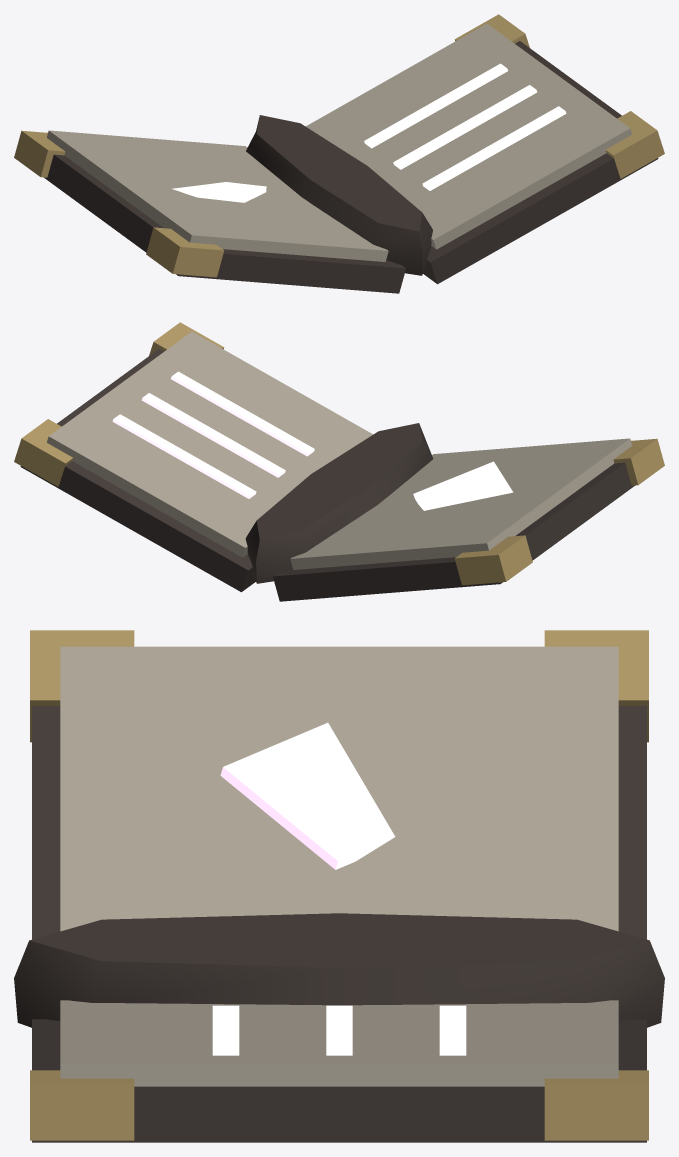
Rendered from mage_book.glb.
3 views of the same model, one above another, from view 1: azimuth 30°, elevation 25°; view 2: azimuth 150°, elevation 25°; view 3: azimuth 270°, elevation 25° (orthographic). The views are drawn at different scales.
Visible parts, largest first — view 1: MageBook; view 2: MageBook; view 3: MageBook.
Part boxes in pixels (bbox=[...]): MageBook: bbox=[14, 14, 664, 293]; MageBook: bbox=[14, 322, 664, 601]; MageBook: bbox=[14, 630, 664, 1142].
Size of the model in its own units: 0.5854 by 0.1159 by 0.344.
